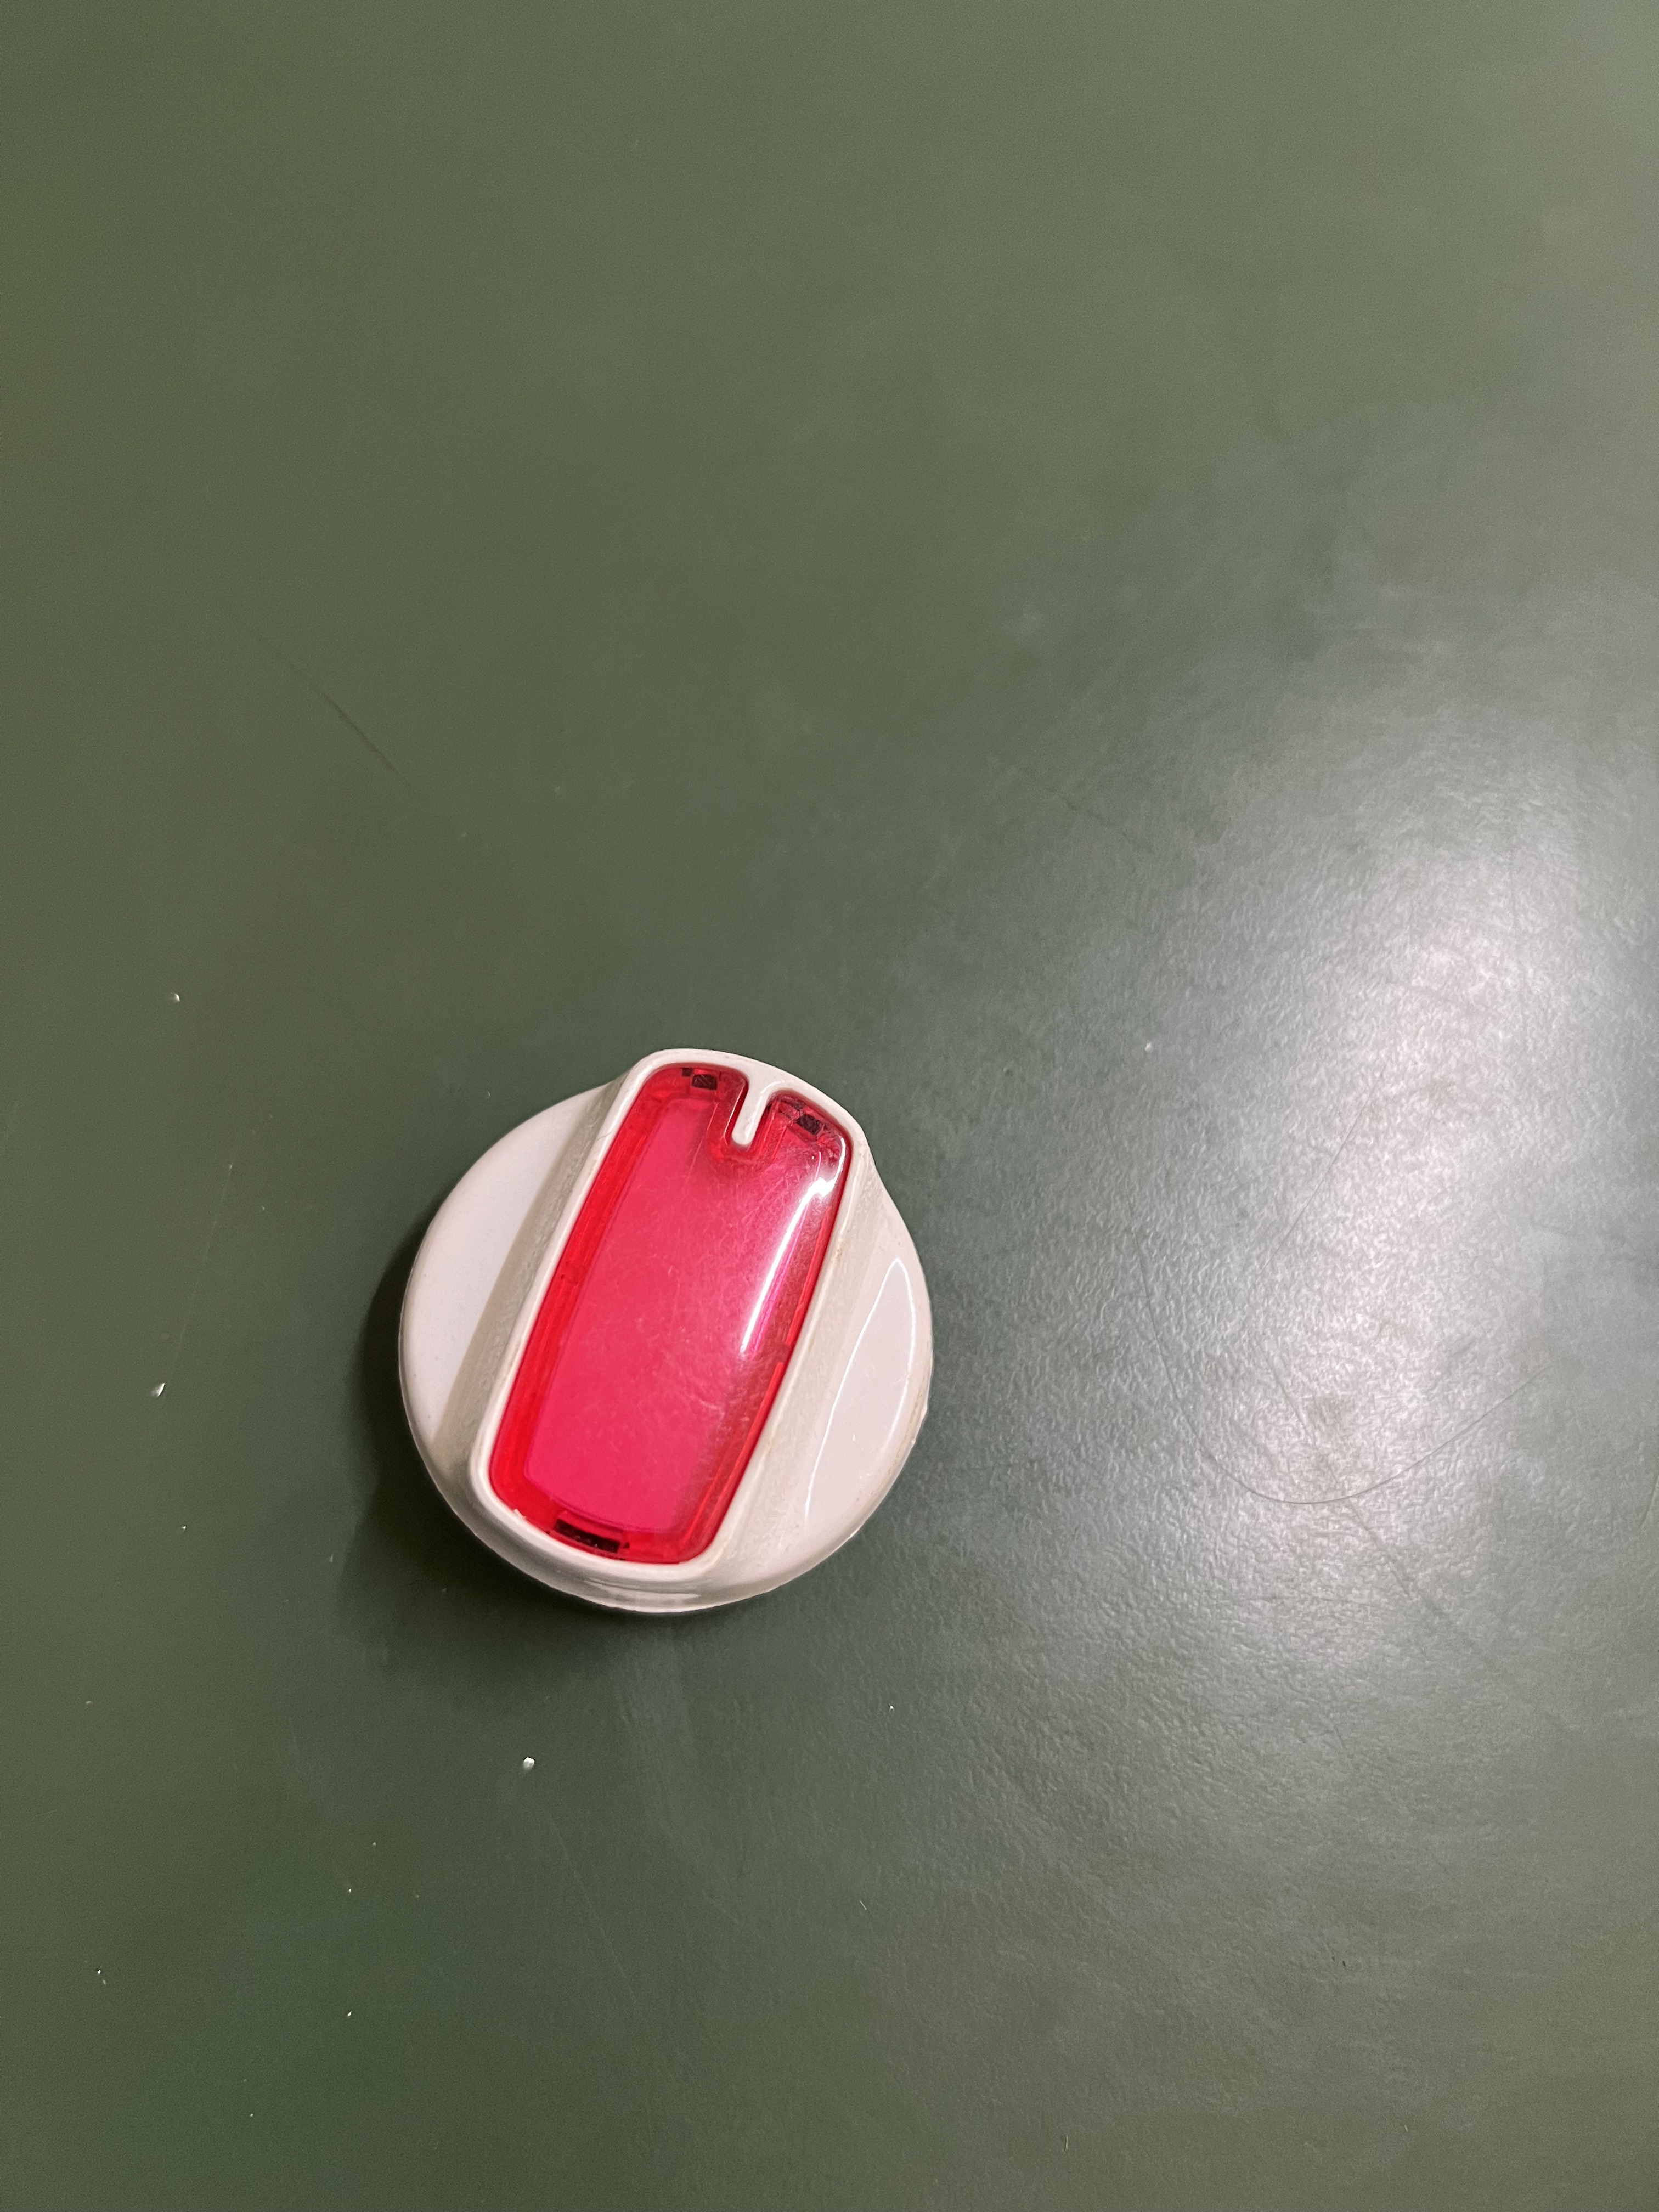regulator: (373, 1010, 986, 1663)
